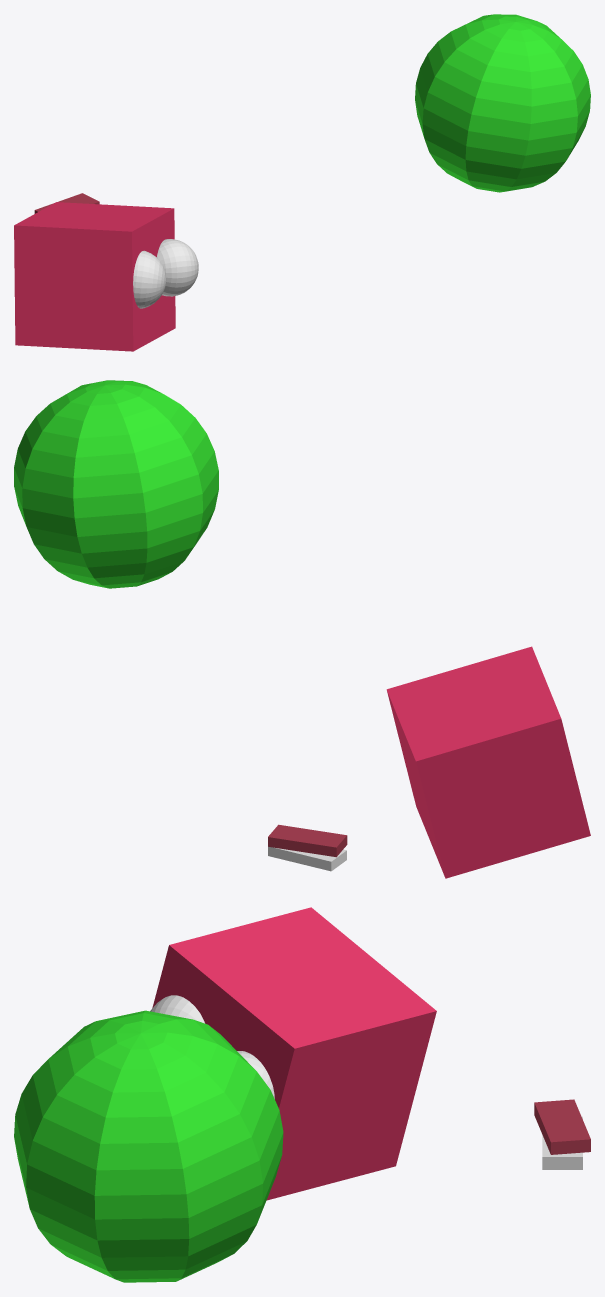
Rendered from monkey.glb.
3 views of the same model, one above another, from view 1: azimuth 30°, elevation 25°; view 2: azimuth 150°, elevation 25°; view 3: azimuth 270°, elevation 25° (orthographic). The views are drawn at different scales.
Parts seen in each view (by area): view 1: Sphere.002, Cube, Sphere, Sphere.001; view 2: Sphere.002, Cube, Cube.002, Cube.001; view 3: Sphere.002, Cube, Cube.002, Sphere.001, Cube.001.
Part boxes in pixels (x1,y1,x2,y2): Sphere.002: (415, 14, 590, 192); Cube: (14, 202, 175, 351); Sphere: (156, 239, 198, 296); Sphere.001: (133, 250, 166, 308); Sphere.002: (14, 380, 218, 588); Cube: (386, 646, 590, 878); Cube.002: (268, 824, 347, 857); Cube.001: (268, 846, 346, 871); Sphere.002: (14, 1010, 283, 1282); Cube: (152, 907, 436, 1200); Cube.002: (534, 1099, 590, 1154); Sphere.001: (150, 995, 204, 1023); Cube.001: (542, 1116, 582, 1169).
Bounding box in the file's own units: 45.29 × 22.47 × 28.36.
